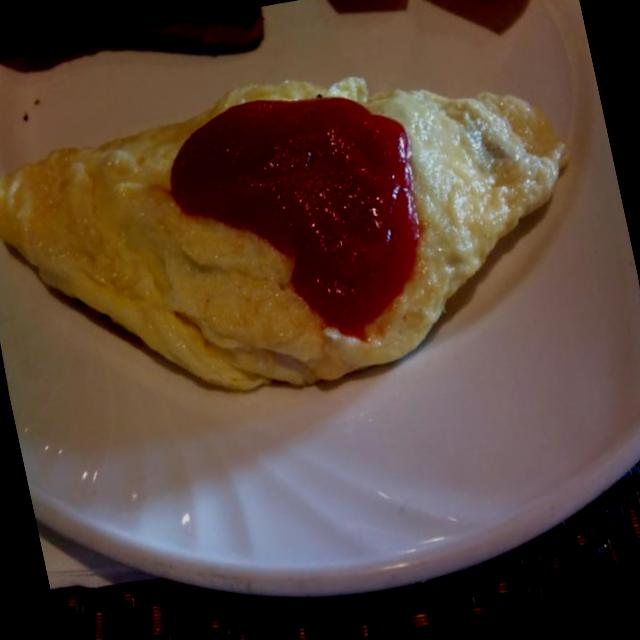Omelet: (0, 16, 579, 408)
